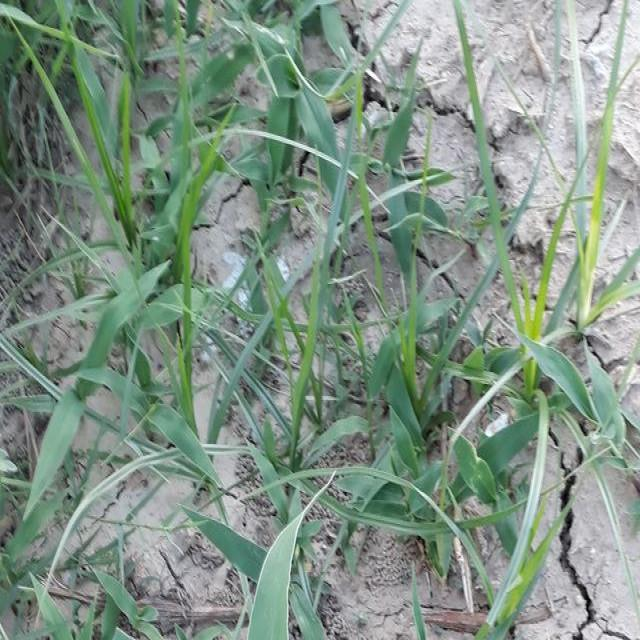weed: (9, 288, 589, 611), (0, 0, 441, 251), (554, 0, 638, 299), (446, 0, 508, 284)
